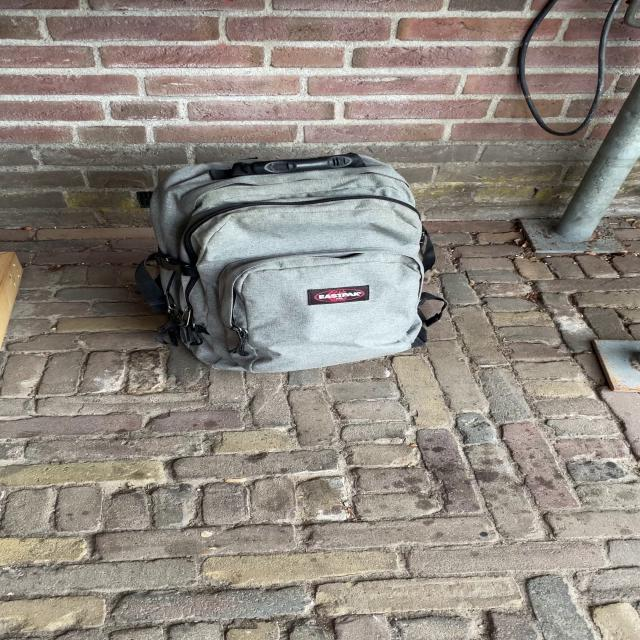backpack: (124, 143, 450, 378)
